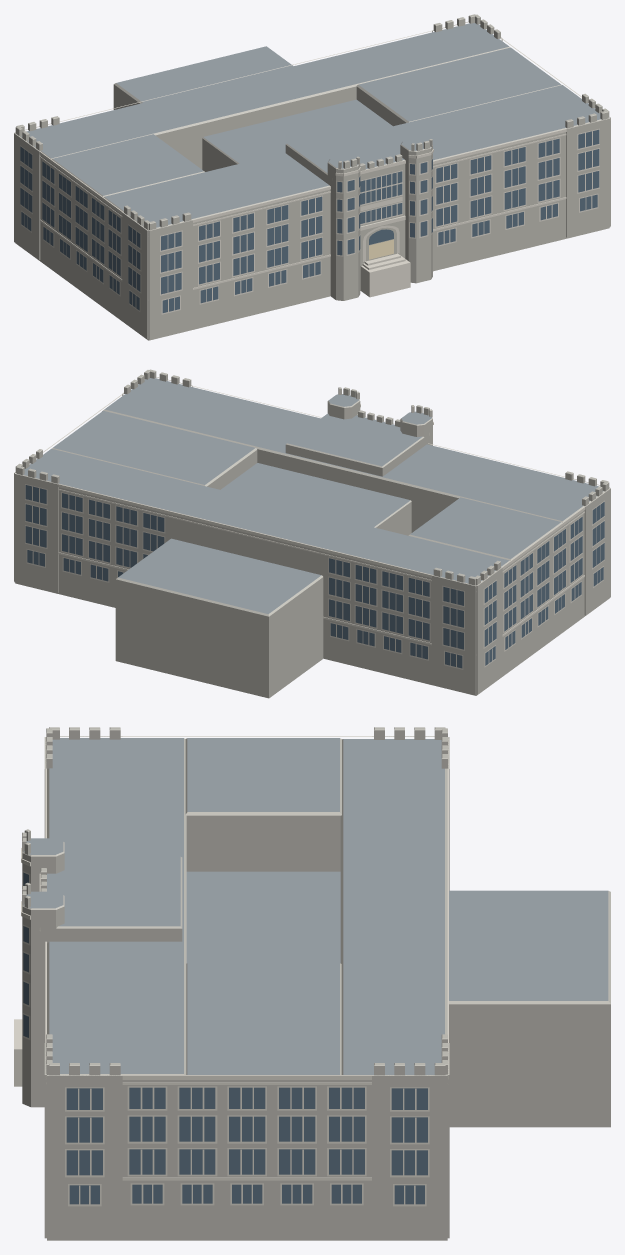
File: nash-hume-fogg.glb
3 views of the same model, one above another, from view 1: azimuth 30°, elevation 25°; view 2: azimuth 150°, elevation 25°; view 3: azimuth 270°, elevation 25° (orthographic). The views are drawn at different scales.
Parts seen in each view (by area): view 1: Hume-Fogg High School; view 2: Hume-Fogg High School; view 3: Hume-Fogg High School.
Part boxes in pixels (<box>): Hume-Fogg High School: <box>14,14,610,340</box>; Hume-Fogg High School: <box>14,369,610,698</box>; Hume-Fogg High School: <box>14,727,610,1240</box>.
Size of the model in its own units: 95.7 by 27.3 by 70.9.
